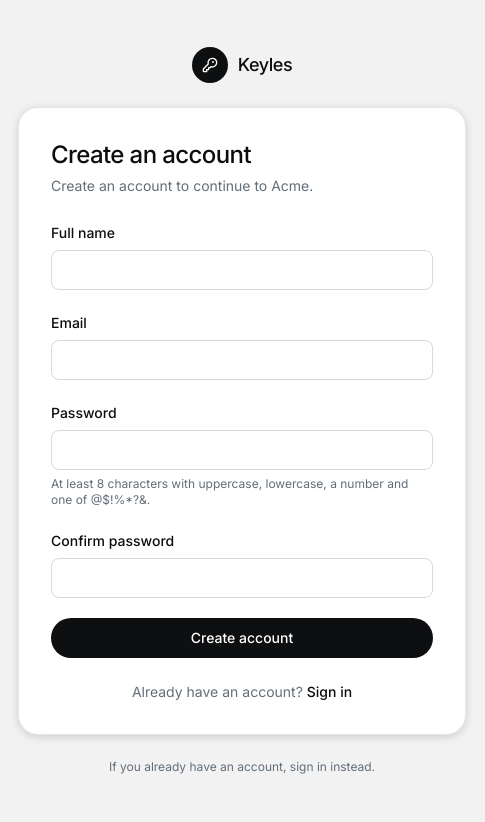
Test: OAuthSignupPage › shows the backend validation message
The image size is (485, 822).
Expected: the text "Create an account to continue to Acme." is shown, [51,177,313,194]
Type "Alice Doe" into the field labelled "Full name" at (242, 270), box [51,250,433,290]
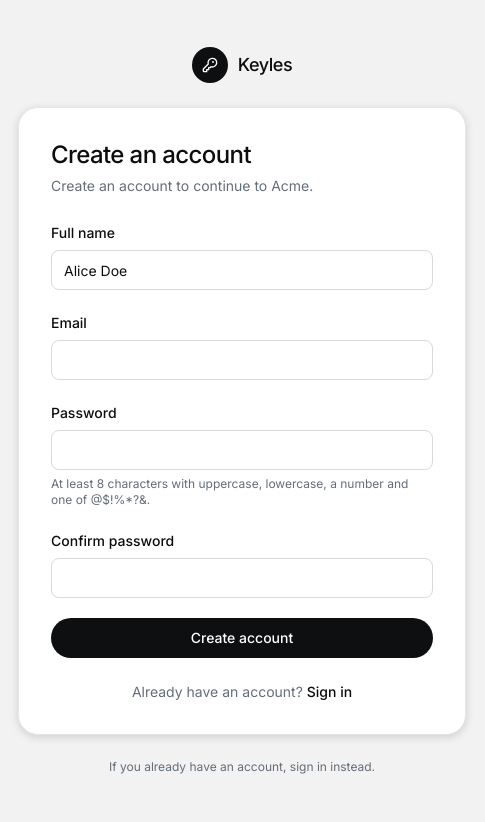
Type "alice@example.com" into the field labelled "Email" at (242, 360), box [51,340,433,380]
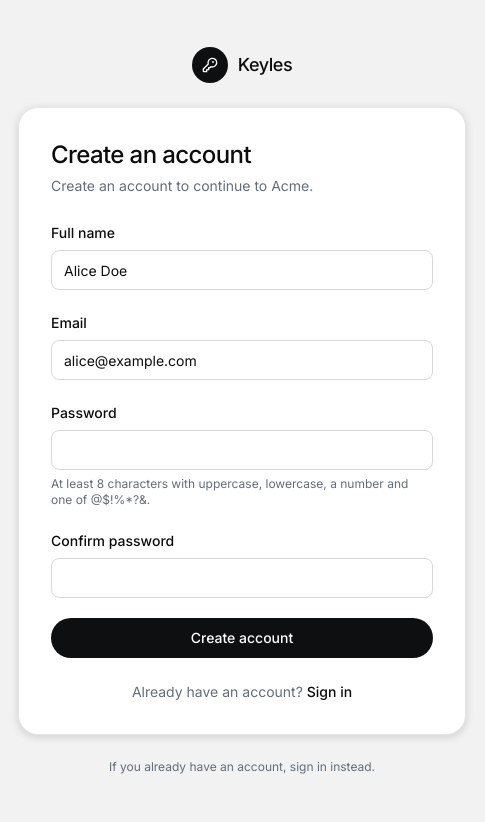
Type "Str0ng!Pass" into the password field labelled "Password" at (242, 450), box [51,430,433,470]
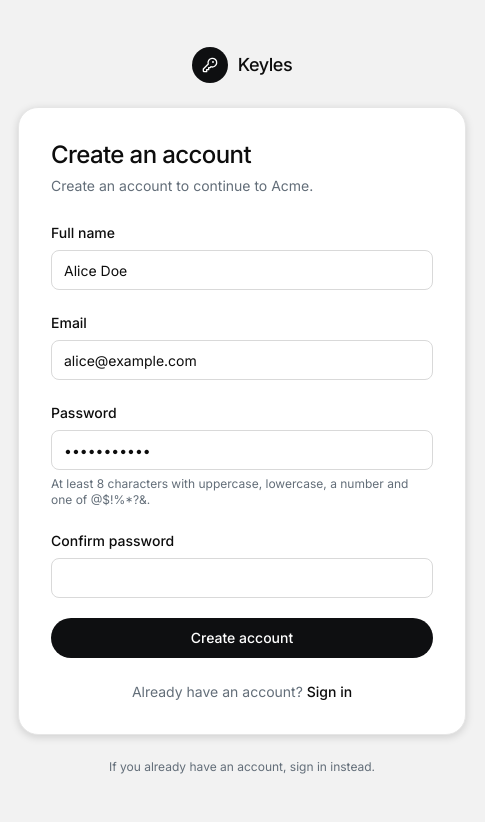
Type "Str0ng!Pass" into the password field labelled "Confirm password" at (242, 578), box [51,558,433,598]
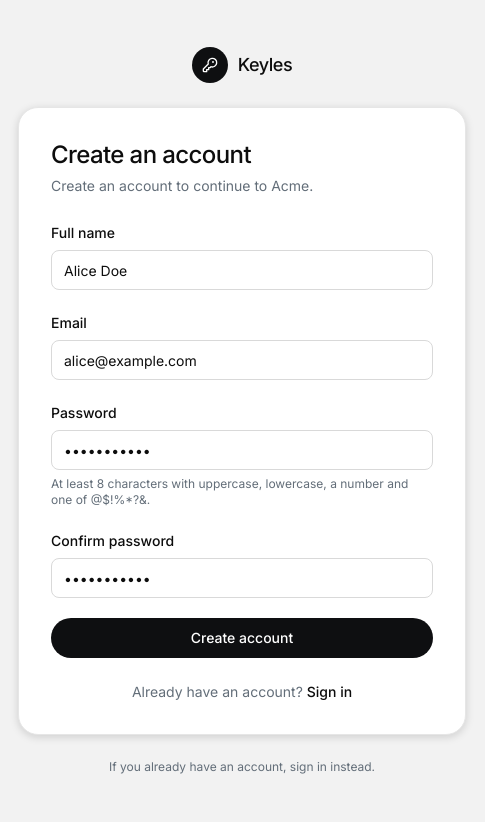
Click the button "Create account" at (242, 638), box [51,618,433,658]
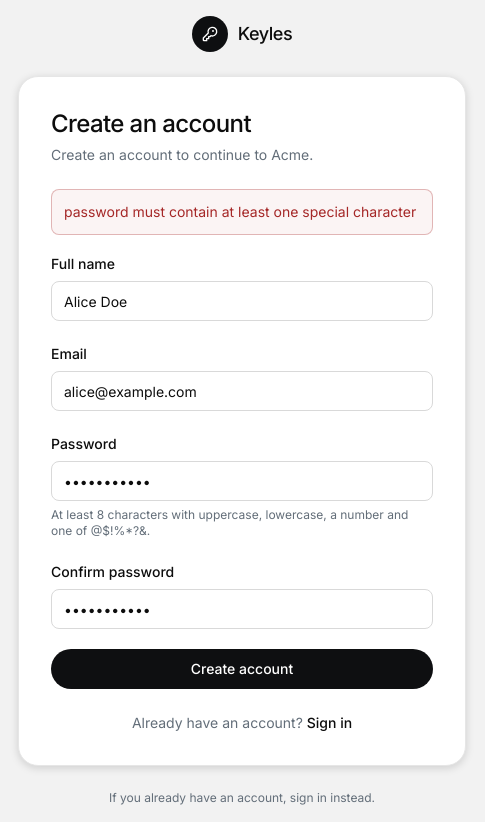
Result: the text "password must contain at least one special character" is shown at [51,189,433,235]
